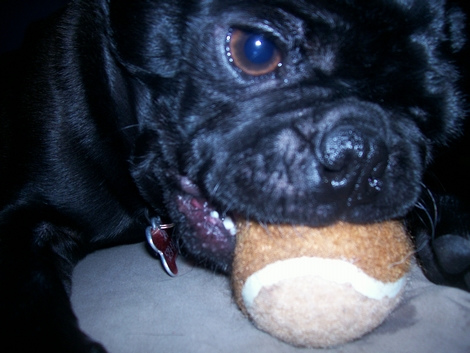dog: (1, 1, 470, 352)
